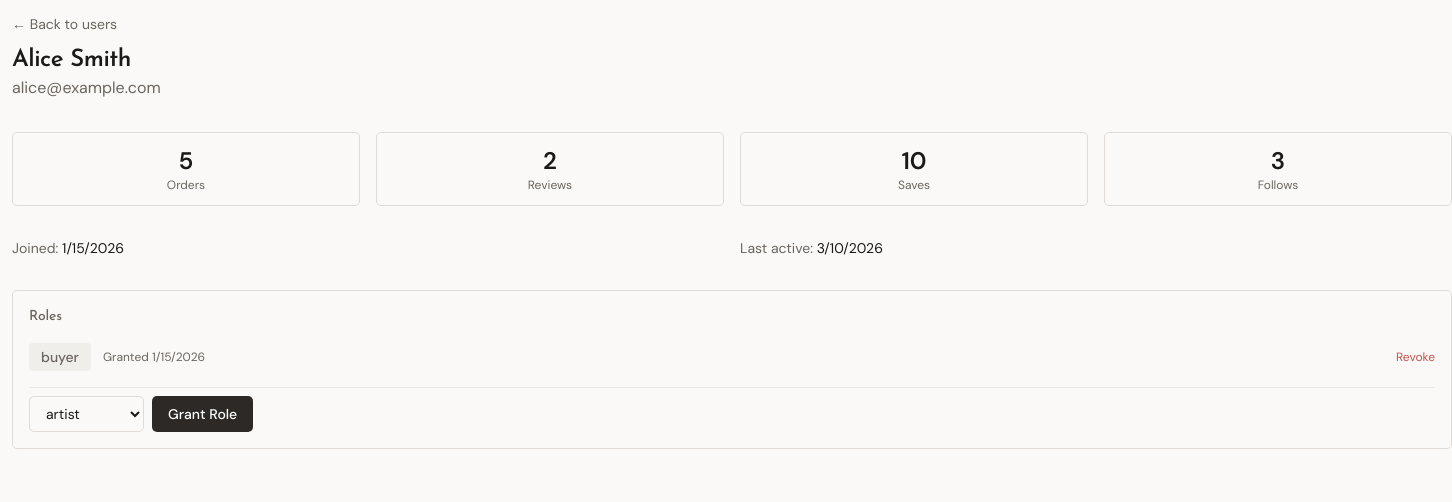
Test: AdminUserDetail › shows grant error message on failure
Select "artist" in the dropdown with test id "grant-role-select". click: (86, 414)
box: [29,396,144,432]
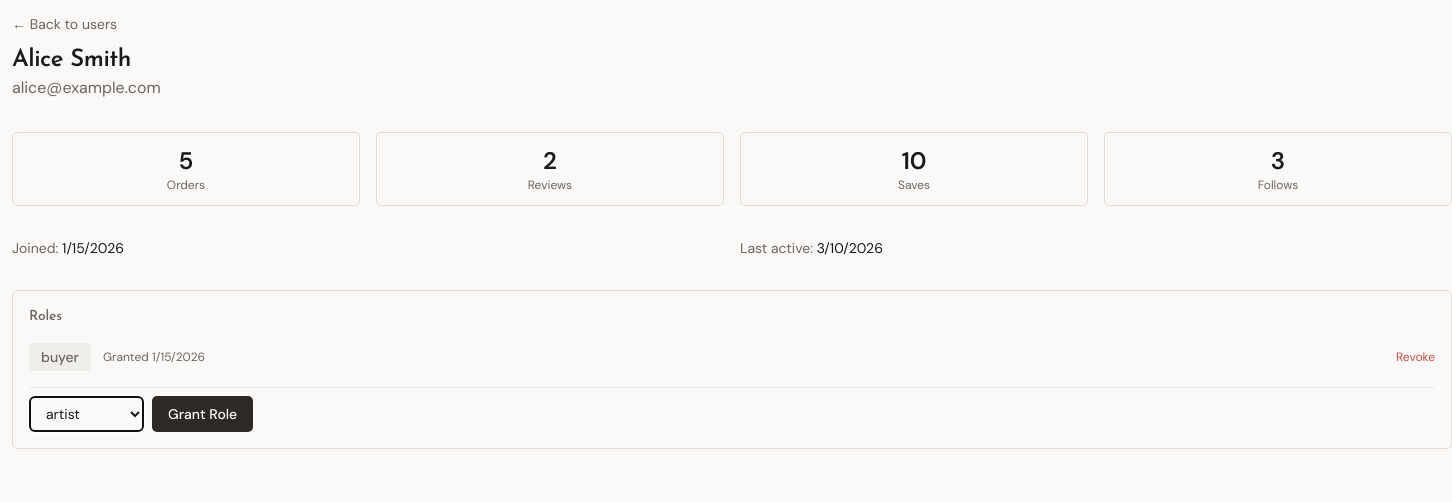
Click the button with test id "grant-role-btn". click: click(203, 414)
box: [152,396,253,432]
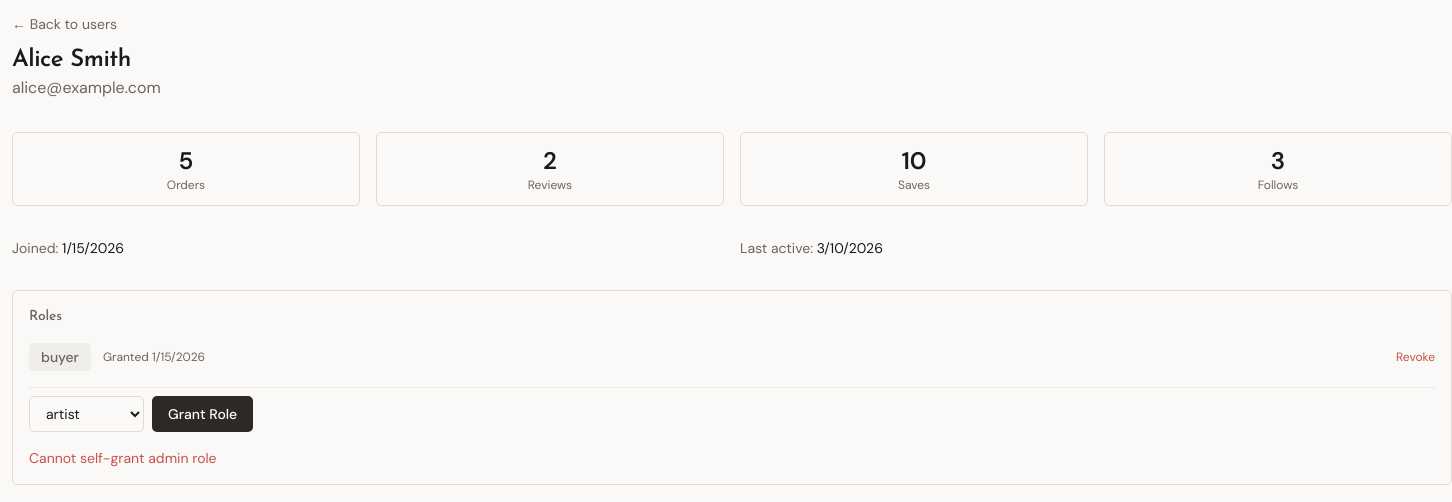
Expected: the text "Cannot self-grant admin role" is shown, [29,449,216,467]
